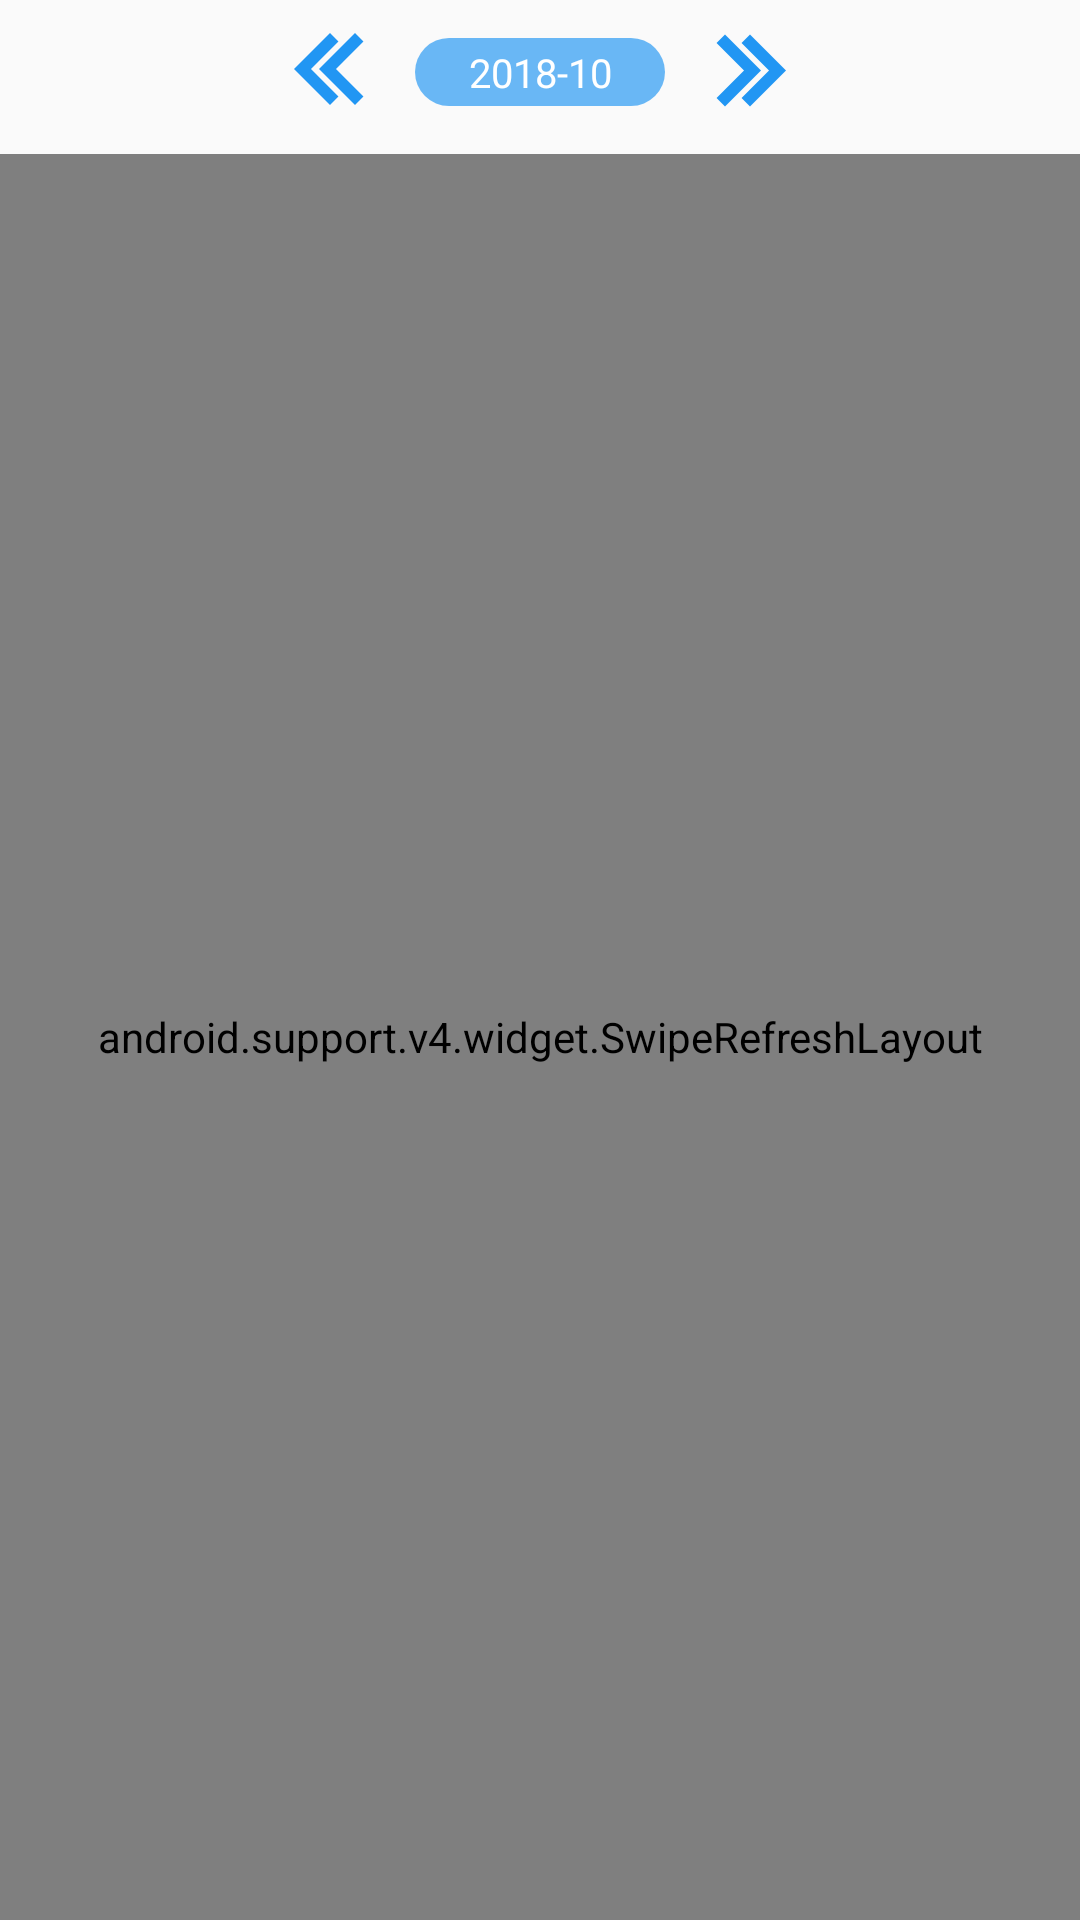

Screen size 1080 x 1920. Icon name, then its box in pixels as (x1, y1, x2, y2):
arrow left: (294, 33, 364, 105)
arrow right: (717, 34, 786, 107)
